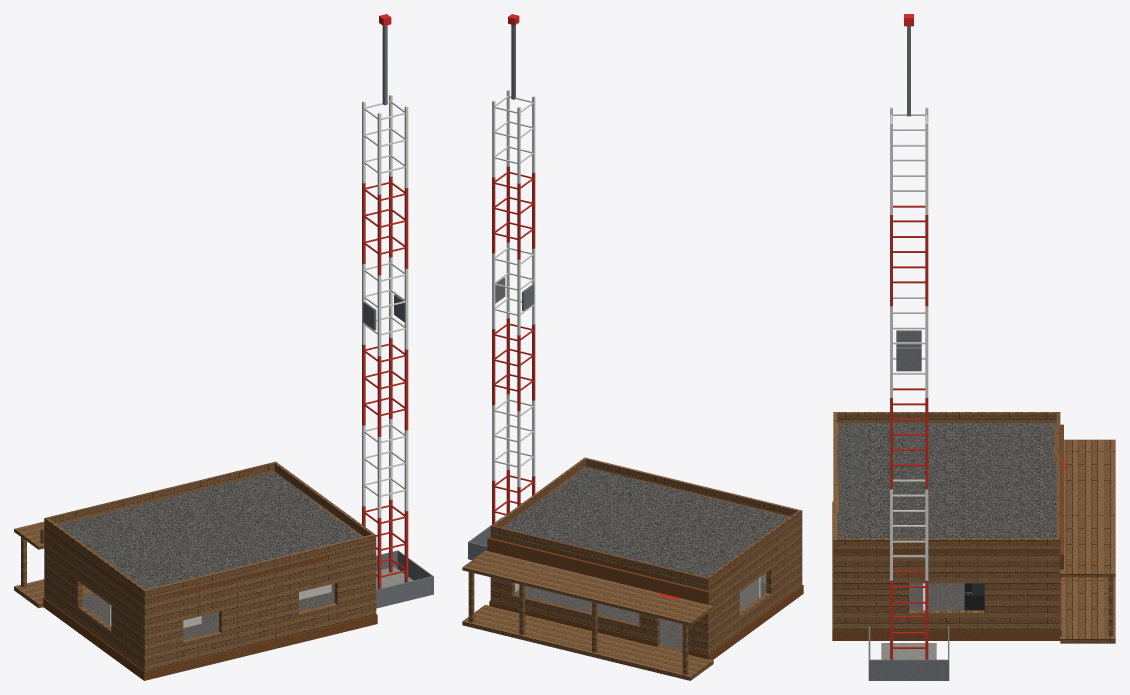
File: radio_station_kantrio.glb
3 views of the same model, side by side, from view 1: azimuth 30°, elevation 25°; view 2: azimuth 150°, elevation 25°; view 3: azimuth 270°, elevation 25° (orthographic). The views are drawn at different scales.
Visible parts, largest first — view 1: radio_station_kantrio; view 2: radio_station_kantrio; view 3: radio_station_kantrio.
Part boxes in pixels (x1=…): radio_station_kantrio: x1=14, y1=14, x2=433, y2=680; radio_station_kantrio: x1=462, y1=14, x2=803, y2=680; radio_station_kantrio: x1=832, y1=14, x2=1115, y2=680.
Size of the model in its own units: 16.1 by 28.35 by 11.25.
13 materials, 13 textured.
